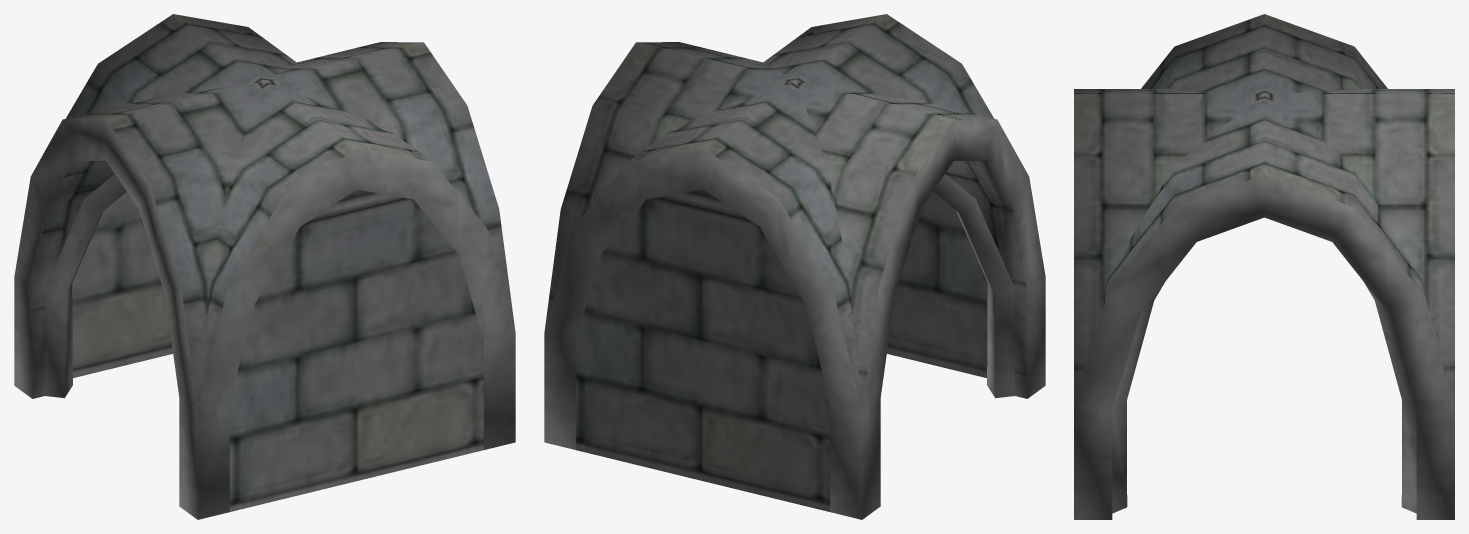
File: sd_vault_ceiling_small_03.glb
3 renders of one model, left to right at view 1: azimuth 30°, elevation 25°; view 2: azimuth 150°, elevation 25°; view 3: azimuth 270°, elevation 25°, orthographic. The views are drawn at different scales.
Visible parts, largest first — view 1: vault_ceiling_small_03; view 2: vault_ceiling_small_03; view 3: vault_ceiling_small_03.
Part boxes in pixels (x1,y1,x2,y2): vault_ceiling_small_03: (14,14,515,519); vault_ceiling_small_03: (544,14,1045,519); vault_ceiling_small_03: (1074,14,1454,519).
Bounding box in the file's own units: 2 × 2 × 2.
Materials: 1 (1 with a texture image).
